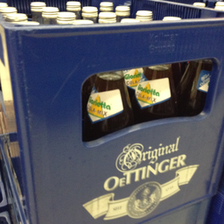soda: (86, 67, 133, 138), (134, 66, 177, 121)
